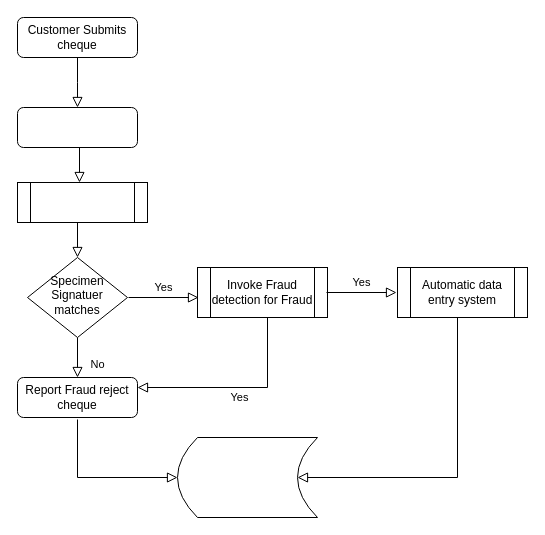
Image size: 545x535. Some labels were removed from this diagram. Each missing label, with the centre of its shape:
Inovoke AI/Rule based processing: the point at 82,202
Scan and Parse imag with OCR: the point at 77,127
Store data with result: the point at 247,477
